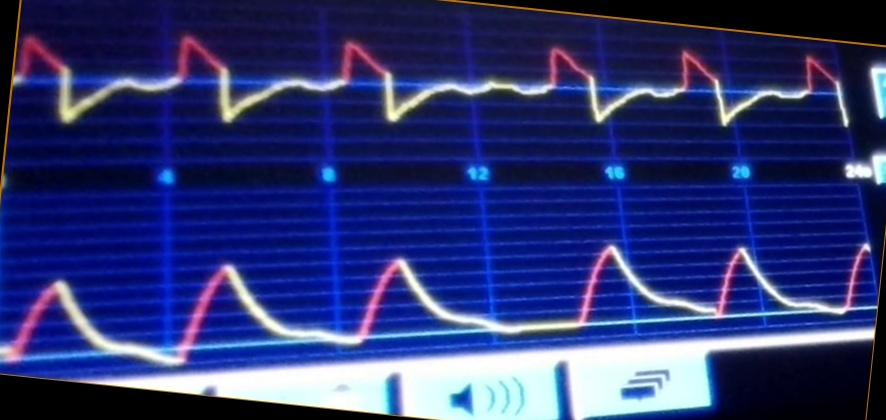Ineffective_effort Flow: (16, 20, 847, 144)
Ineffective_effort Volume: (3, 231, 867, 371)
